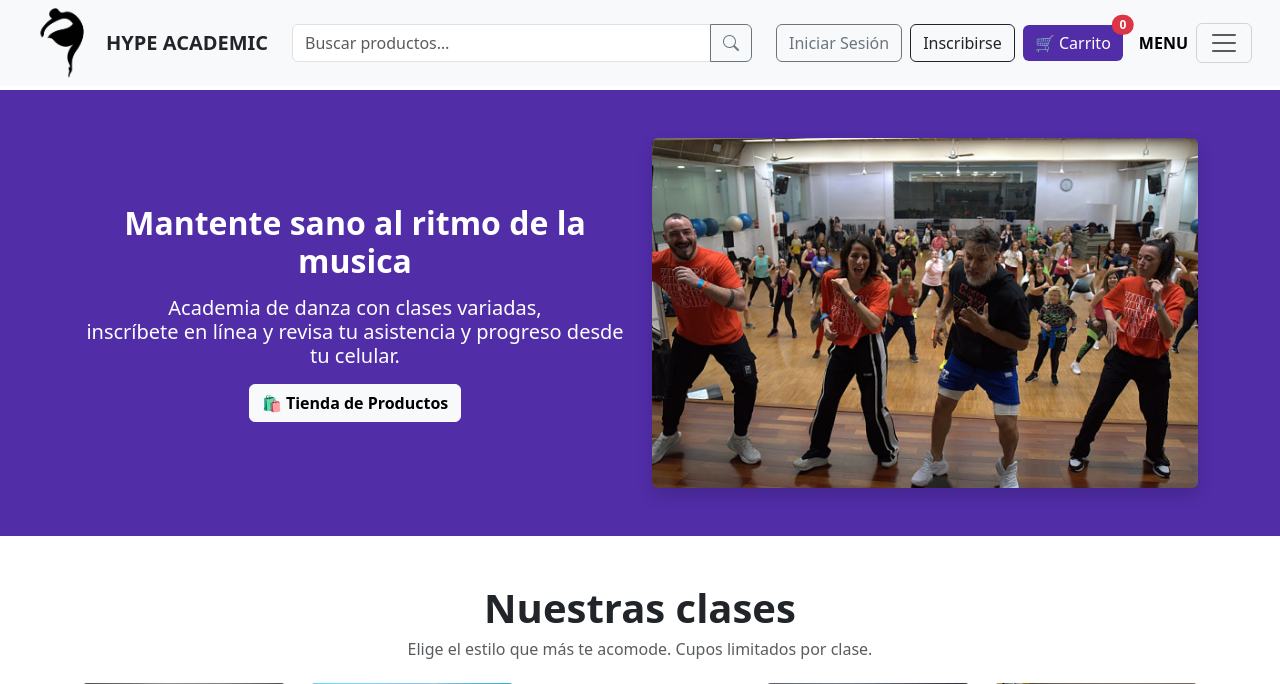
App (sesión y checkout como página) › el login correcto muestra saludo y permite cerrar sesión
Click the button "Iniciar Sesión": {"x": 839, "y": 43} [776,24,902,62]
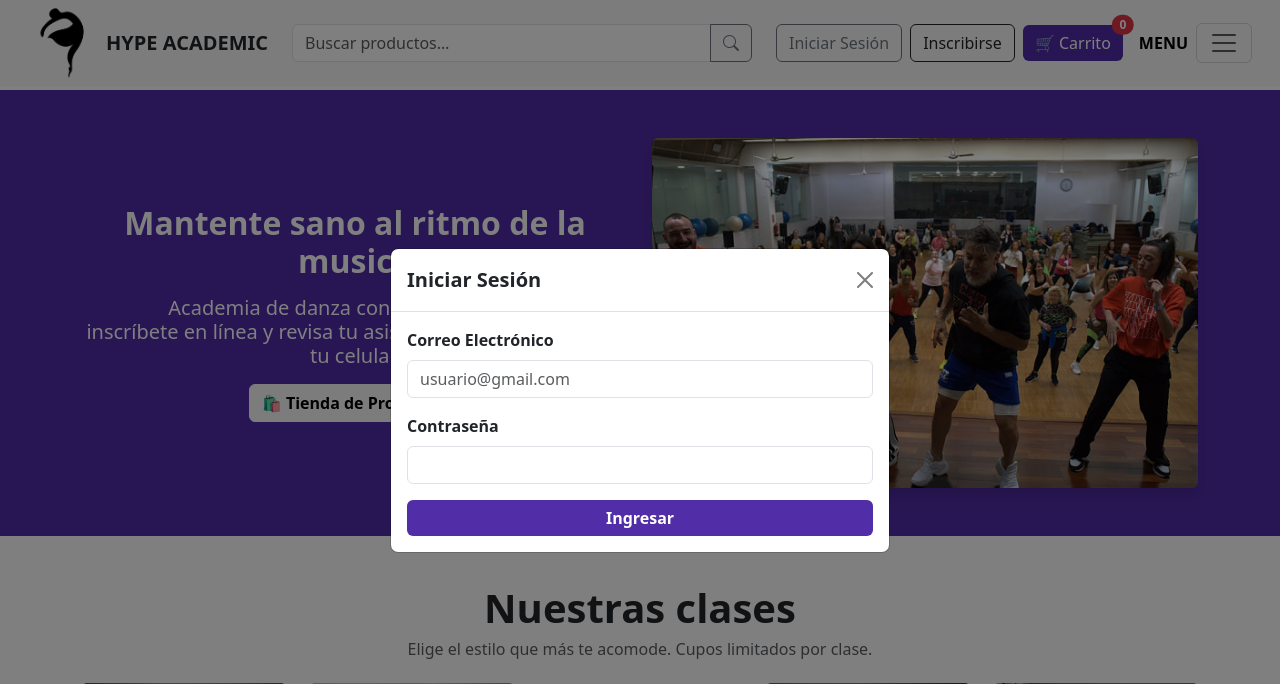
In the field labelled "Correo Electrónico": {"x": 640, "y": 378} [407,360,873,398], type "ana@gmail.com"
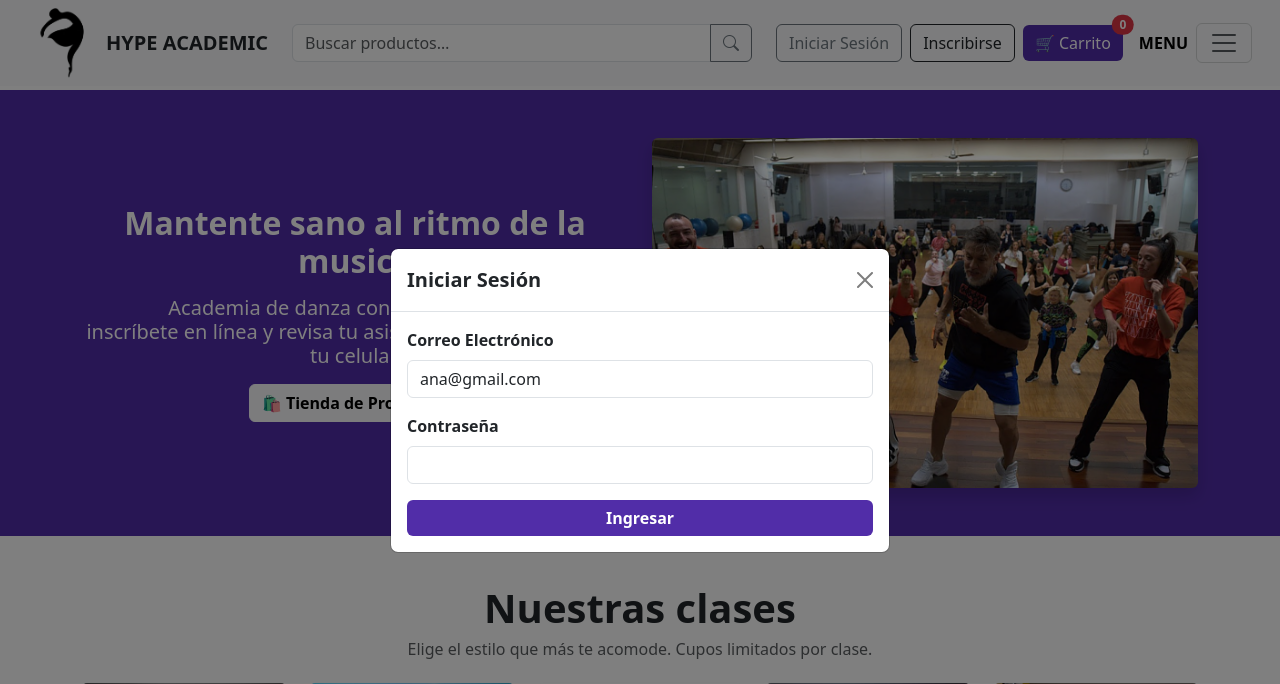
In the password field labelled "Contraseña": {"x": 640, "y": 464} [407,446,873,484], type "abcd"
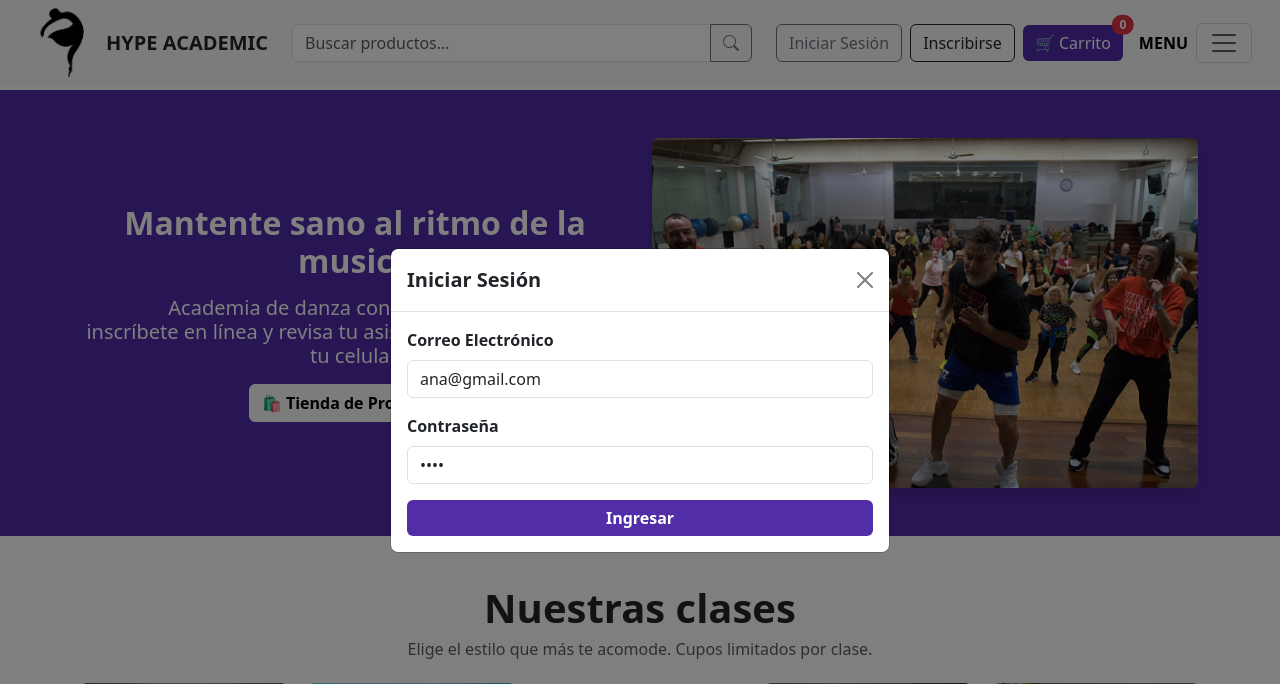
Click the button "Ingresar": {"x": 640, "y": 518} [407,500,873,536]
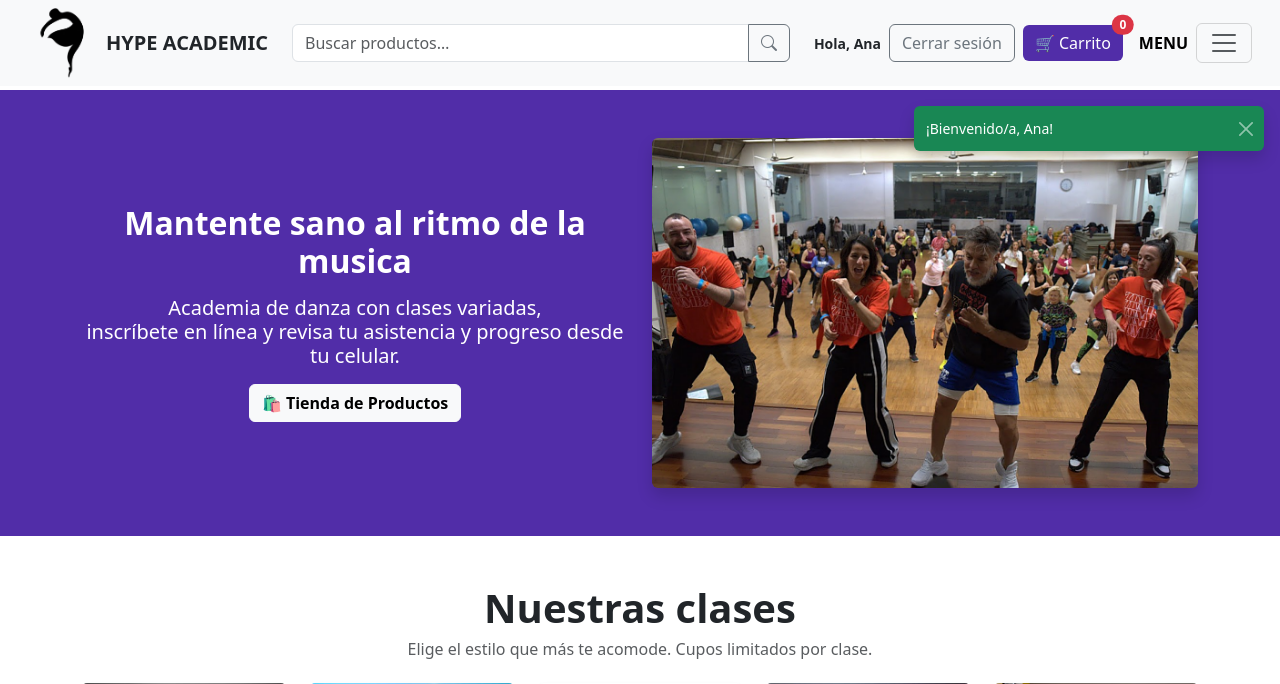
Result: the text with test id "usuario-activo" reads "Hola, Ana" at [814,32,881,54]
Click the button "Cerrar sesión": {"x": 952, "y": 43} [889,24,1015,62]
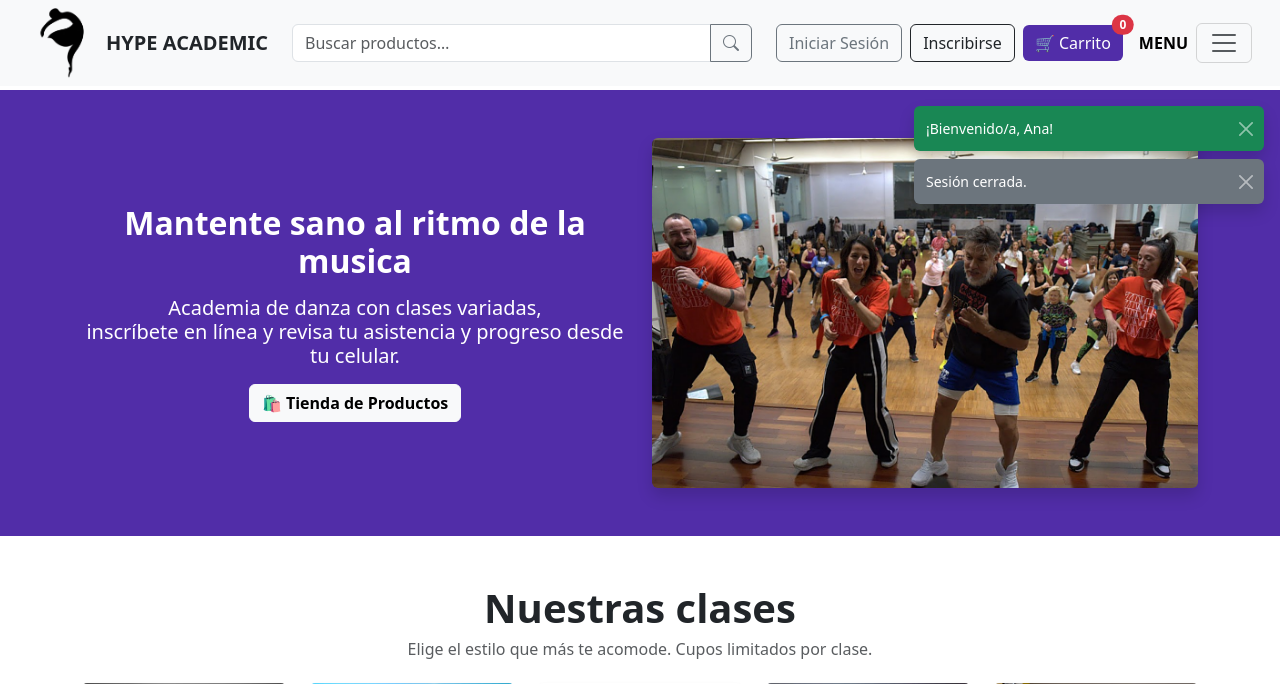
Result: the text with test id "usuario-activo" is gone
